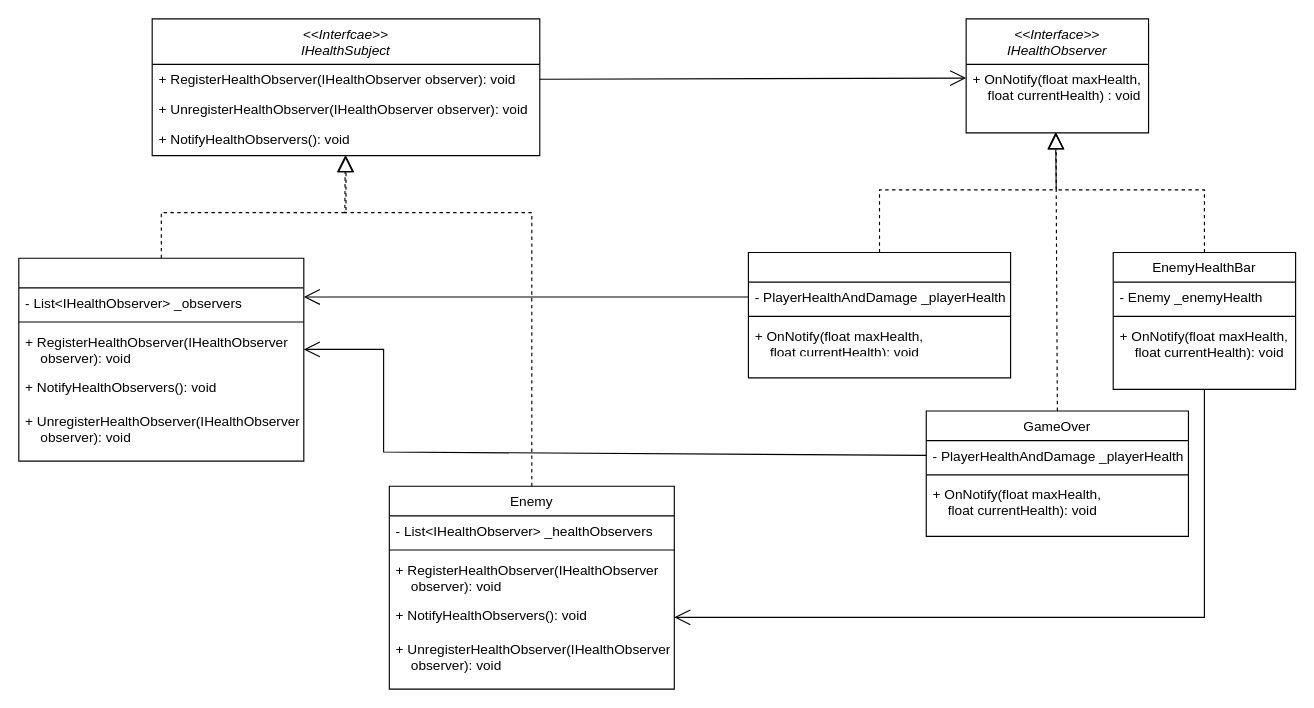
This 1314x708 diagram has some shape labels left out. Here are the shapes that lost their labels. From the top down, the box of each, then its label:
(747, 251, 1011, 378): PlayerHealthBar
(18, 257, 304, 461): PlayerHealthAndDamage
